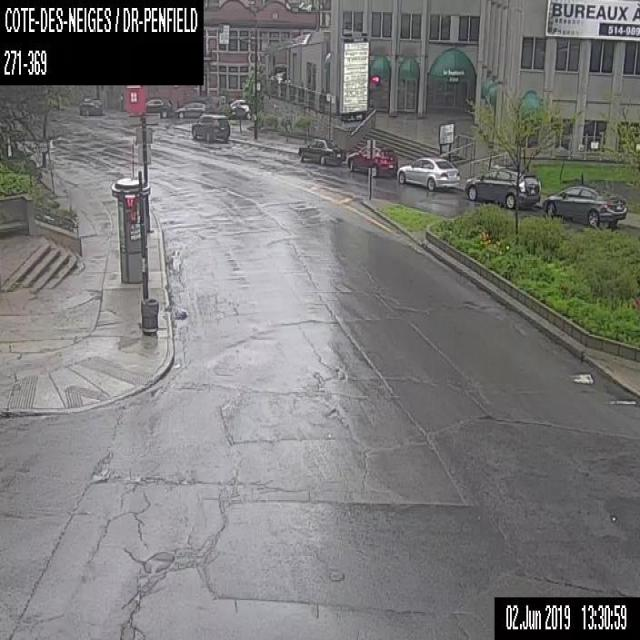vehicle: (542, 182, 626, 229), (465, 164, 540, 207), (397, 156, 459, 191), (348, 142, 397, 176), (298, 136, 346, 166), (191, 112, 230, 141), (145, 95, 172, 117), (174, 100, 205, 118), (78, 96, 102, 115), (230, 97, 251, 118)
